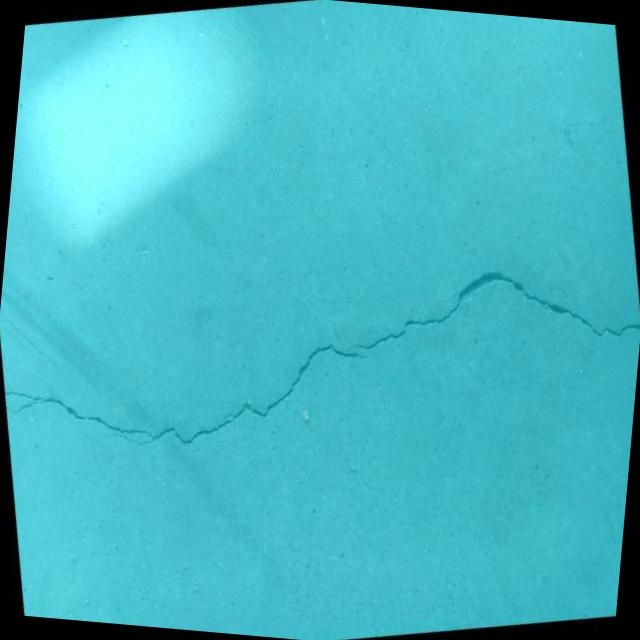crack: (0, 203, 640, 514)
